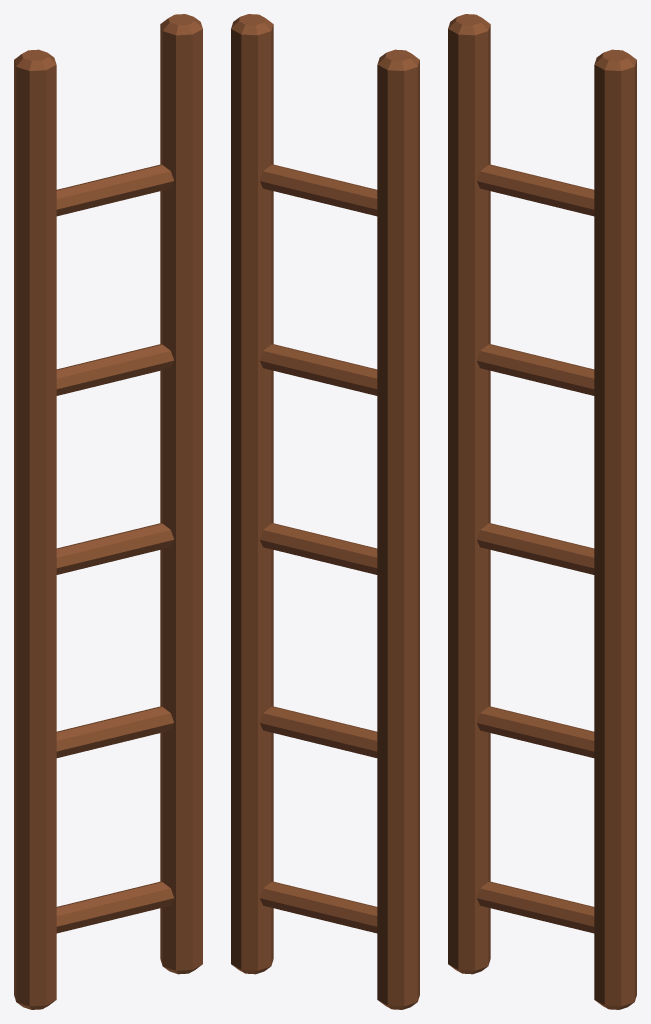
Rendered from Ladder.glb.
3 views of the same model, side by side, from view 1: azimuth 30°, elevation 25°; view 2: azimuth 150°, elevation 25°; view 3: azimuth 330°, elevation 25° (orthographic).
Visible parts, largest first — view 1: Ladder; view 2: Ladder; view 3: Ladder.
Part boxes in pixels (x1,y1,x2,y2): Ladder: [14, 14, 202, 1009]; Ladder: [231, 14, 419, 1009]; Ladder: [448, 14, 636, 1009].
Size of the model in its own units: 146 by 716 by 30.05.
